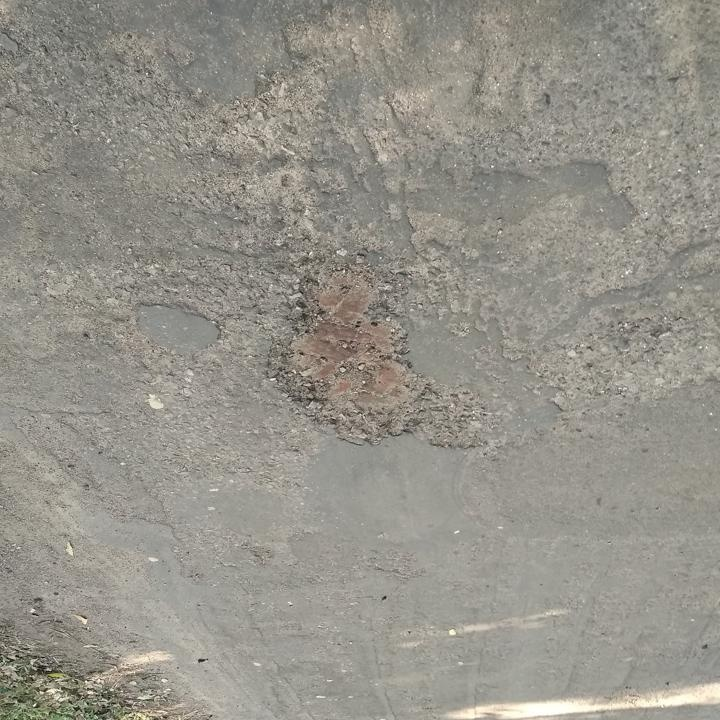pothole: (264, 255, 494, 454)
